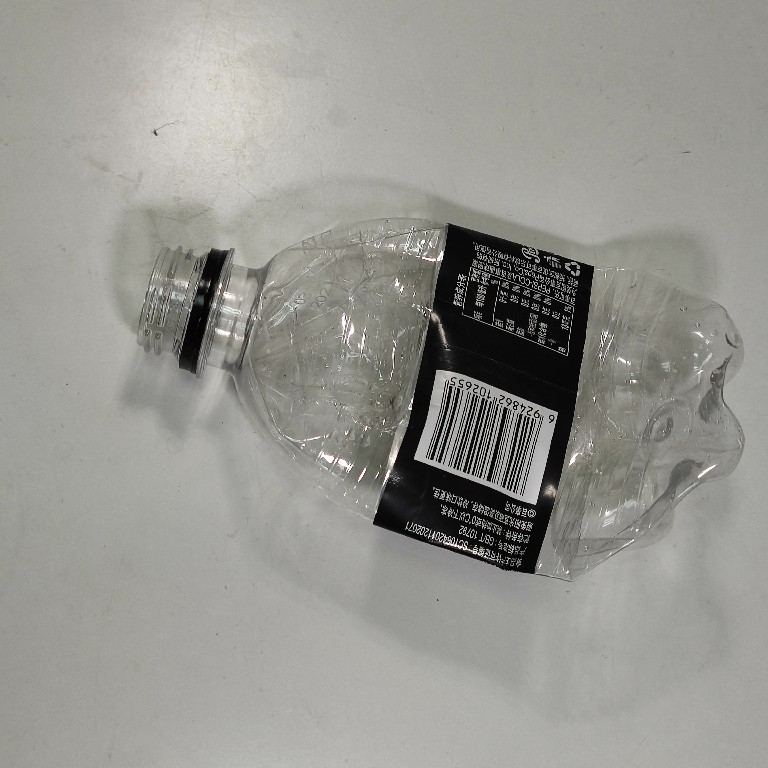bottle: (124, 192, 756, 599)
